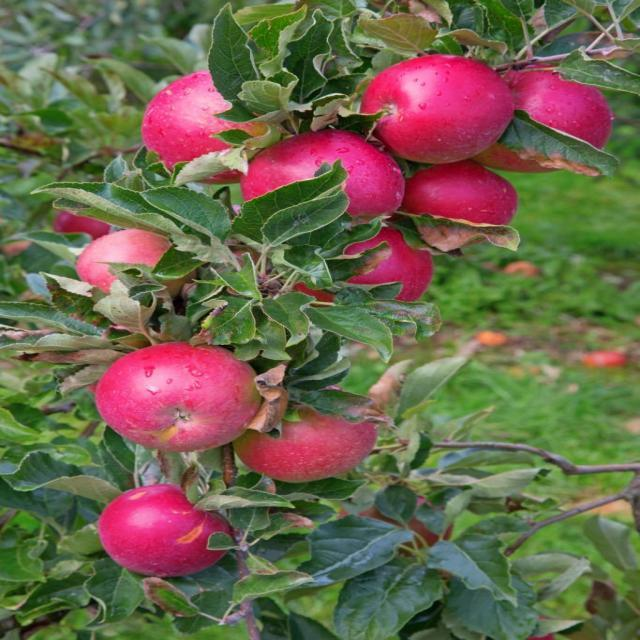Red Apple: (107, 342, 259, 442), (369, 55, 505, 148), (246, 132, 408, 210), (109, 481, 225, 567), (512, 69, 615, 163), (303, 229, 432, 304), (152, 72, 265, 155), (255, 396, 374, 471), (413, 159, 519, 222), (356, 492, 453, 555), (82, 236, 173, 289), (48, 205, 104, 245), (518, 611, 558, 640), (588, 344, 626, 366), (480, 327, 508, 346), (515, 258, 536, 277)
